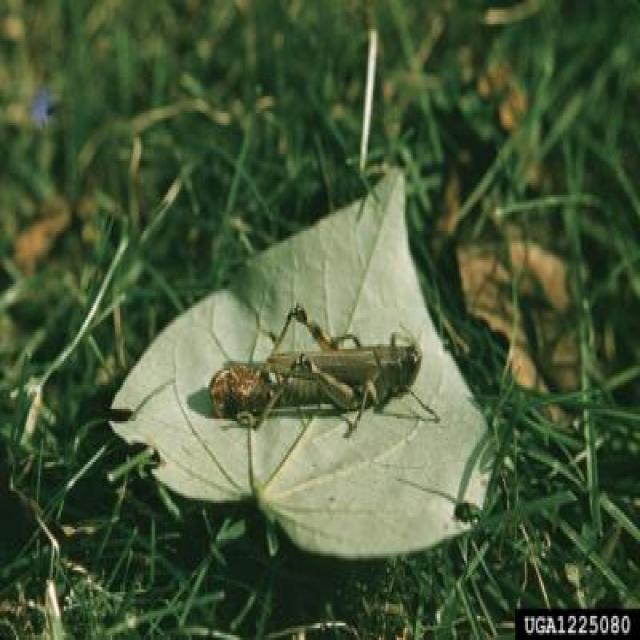antennae: (409, 314, 431, 344)
body: (248, 340, 420, 408)
insect: (209, 307, 432, 434)
legs: (236, 352, 356, 430), (264, 308, 338, 349), (350, 376, 380, 424)
wings: (217, 345, 377, 400)
